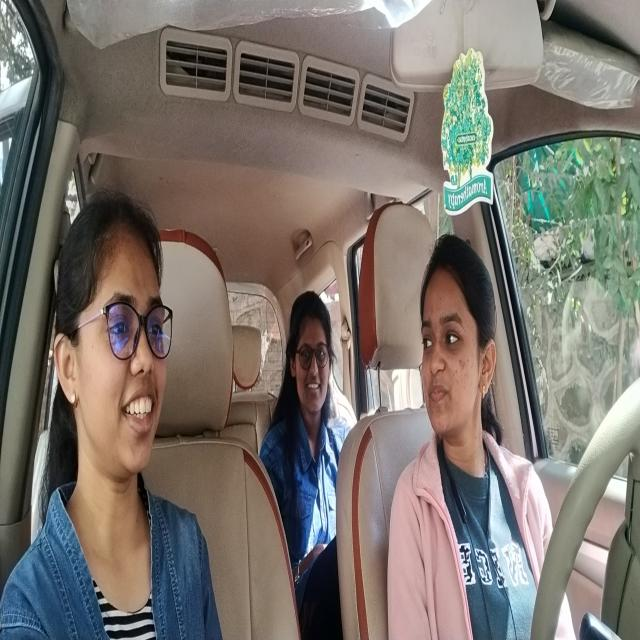LeftRight: (413, 230, 502, 454)
person: (54, 190, 184, 479), (280, 280, 339, 444)
